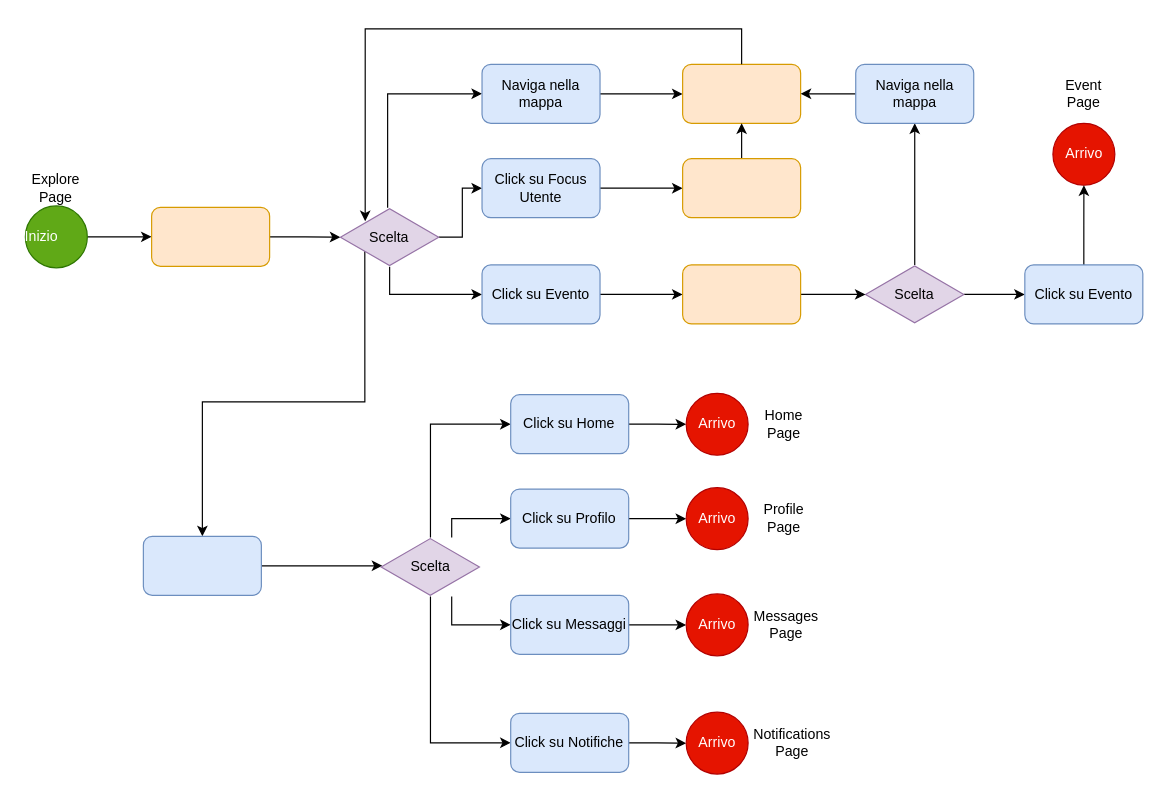
This 1163x795 diagram has some shape labels left out. The centre of each missing label's shape, as x and y in pixels:
"Aggiorna coordinate centro mappa" goes at point (741, 188).
"Aggiorna coordinate centro mappa, popup descrizine Evento" goes at point (741, 294).
"Eventi aggiornati" goes at point (741, 93).
"Explore Page con Eventi" goes at point (210, 236).
"Focus su Navigatoin List" goes at point (201, 565).
